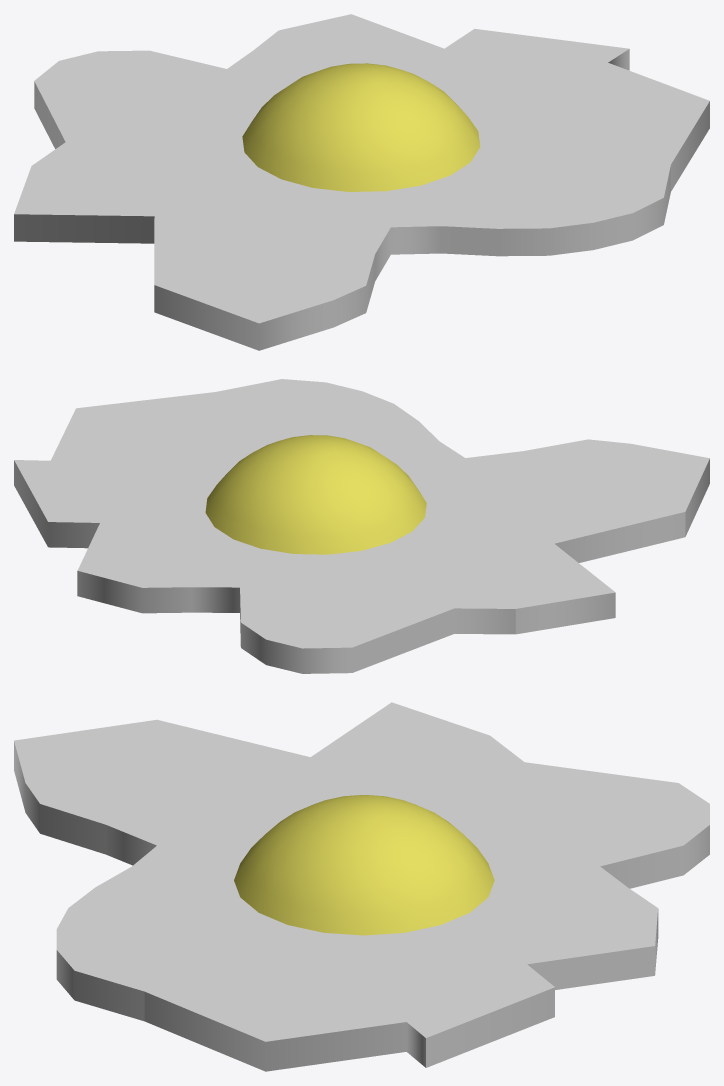
File: CS_Egg2_03_DF.fbx
The picture shows the model from 3 angles, top to bottom: view 1: azimuth 30°, elevation 25°; view 2: azimuth 150°, elevation 25°; view 3: azimuth 270°, elevation 25°; orthographic projection. The views are drawn at different scales.
Parts seen in each view (by area): view 1: Egg2; view 2: Egg2; view 3: Egg2.
Part boxes in pixels (x1=…): Egg2: x1=14, y1=14, x2=709, y2=350; Egg2: x1=14, y1=379, x2=709, y2=673; Egg2: x1=14, y1=702, x2=709, y2=1071.
Bounding box in the file's own units: 0.1598 × 0.0223 × 0.1384.
